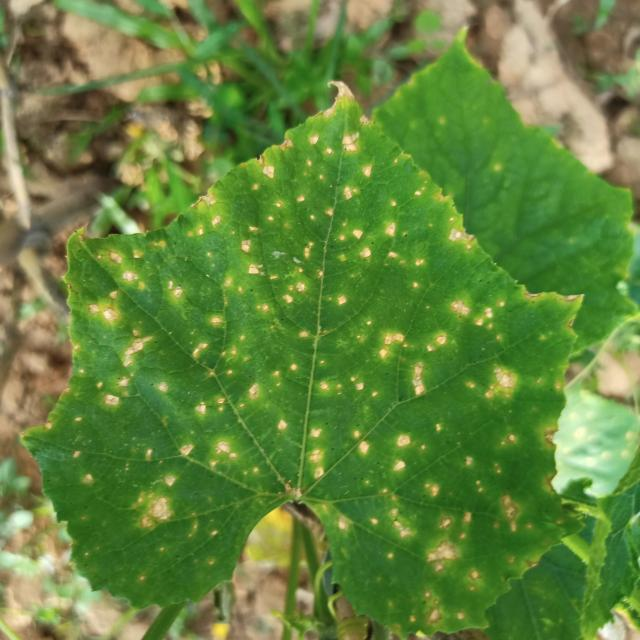disease_cucumber: (162, 126, 526, 410), (66, 263, 362, 543), (304, 320, 552, 614)
